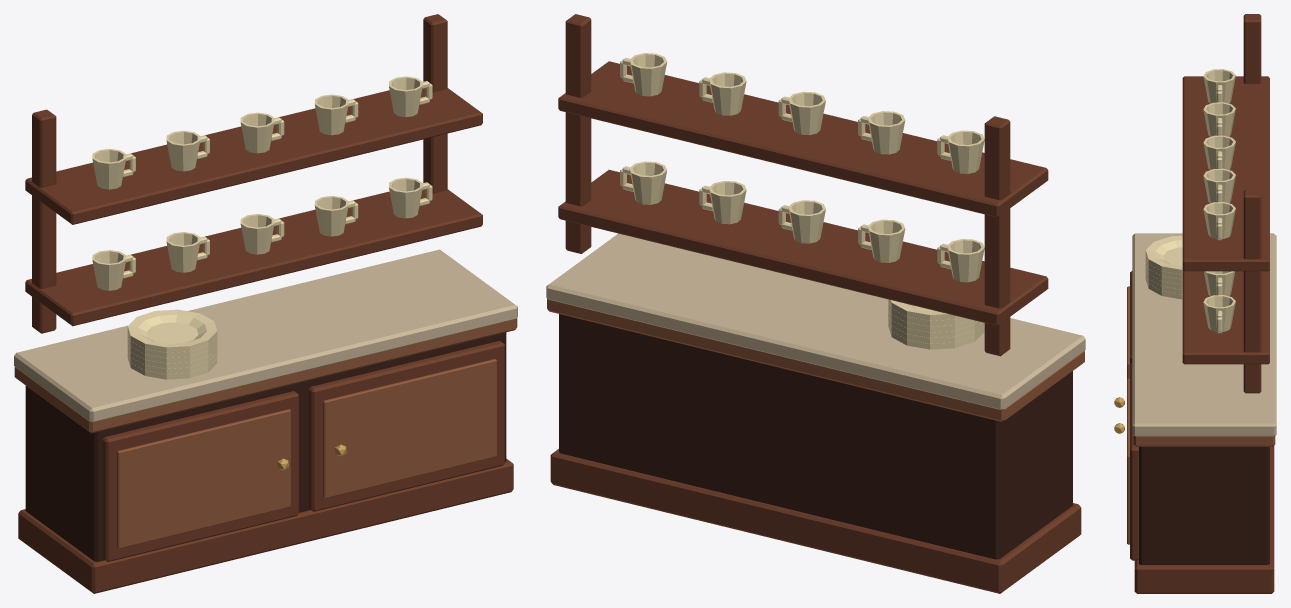
Rendered from dish_rack_01.glb.
3 views of the same model, side by side, from view 1: azimuth 30°, elevation 25°; view 2: azimuth 150°, elevation 25°; view 3: azimuth 270°, elevation 25° (orthographic). The views are drawn at different scales.
Visible parts, largest first — view 1: Base, Base_Worktop, Shelf, Shelf_001, Base_Plinth, Base_Body, Base_Top, Post, Plate_Dish_005, Post_001, Cup_Cup, Cup_Cup_001 (+8 smaller); view 2: Base_Body, Base_Worktop, Shelf_001, Shelf, Base_Plinth, Base_Top, Post, Post_001, Cup_Cup_002, Cup_Cup_006, Cup_Cup_005, Cup_Cup_008 (+7 smaller); view 3: Base_Worktop, Base_Body, Shelf_001, Shelf, Base_Plinth, Post_001, Base, Base_Top, Post, Plate_Dish_005, Cup_Cup_009, Cup_Cup_004 (+5 smaller).
Boxes of the visible parts, x1,y1,x2,y2 form: Base: (102,341,504,561); Base_Worktop: (14,249,517,422); Shelf: (25,189,482,326); Shelf_001: (25,88,482,224); Base_Plinth: (18,458,513,593); Base_Body: (25,332,506,561); Base_Top: (14,318,517,433); Post: (32,109,56,333); Plate_Dish_005: (127,309,217,352); Post_001: (423,14,447,193); Cup_Cup: (92,250,126,290); Cup_Cup_001: (166,232,200,272); Base_Body: (559,314,1072,559); Base_Worktop: (546,233,1085,409); Shelf_001: (558,61,1048,217); Shelf: (558,169,1048,325); Base_Plinth: (550,449,1081,593); Base_Top: (547,299,1084,421); Post: (984,116,1010,356); Post_001: (565,14,591,253); Cup_Cup_002: (788,200,825,243); Cup_Cup_006: (867,111,905,154); Cup_Cup_005: (947,130,984,173); Cup_Cup_008: (709,72,746,115); Base_Worktop: (1132,233,1276,435); Base_Body: (1139,447,1269,564); Shelf_001: (1182,76,1269,271); Shelf: (1182,270,1269,364); Base_Plinth: (1134,446,1274,593); Post_001: (1243,189,1261,393); Base: (1114,271,1138,560); Base_Top: (1133,435,1275,446); Post: (1243,14,1261,83); Plate_Dish_005: (1145,235,1182,274); Cup_Cup_009: (1203,202,1235,238); Cup_Cup_004: (1203,295,1235,331).
Bounding box in the file's own units: 2.08 × 2 × 0.7418.
